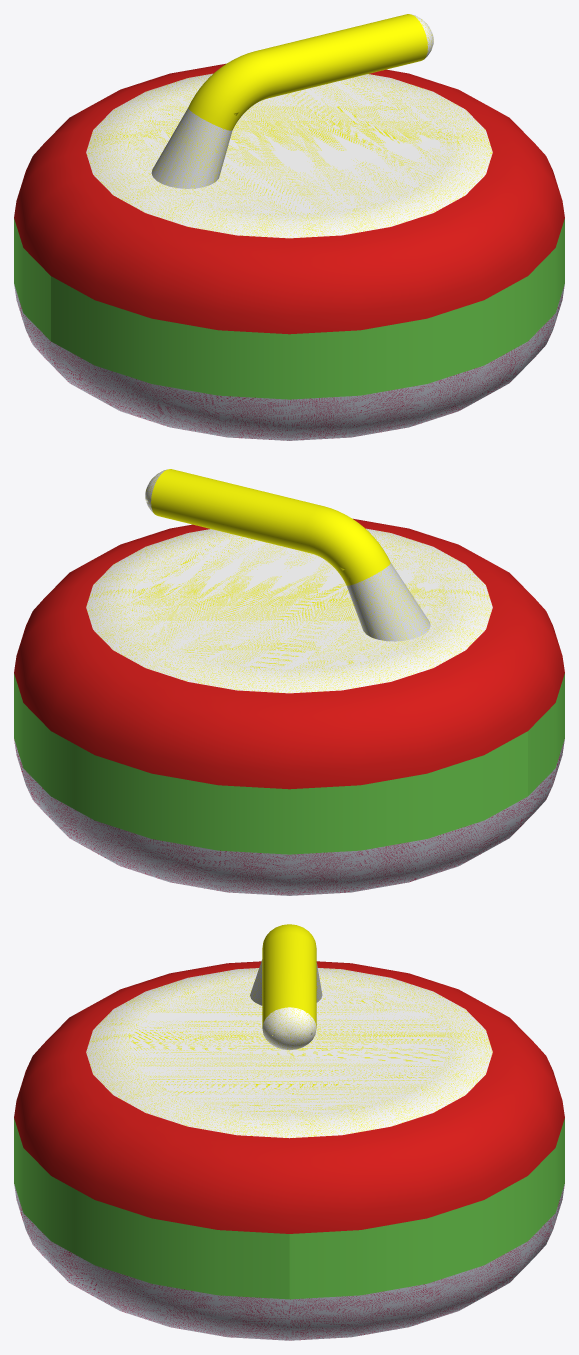
Rendered from stone3.dae.
3 views of the same model, one above another, from view 1: azimuth 30°, elevation 25°; view 2: azimuth 150°, elevation 25°; view 3: azimuth 270°, elevation 25° (orthographic).
Visible parts, largest first — view 1: instance_0_002, instance_0_004, instance_0, instance_0_003, instance_0_005, instance_0_007; view 2: instance_0_002, instance_0_004, instance_0, instance_0_003, instance_0_005, instance_0_007; view 3: instance_0_002, instance_0_004, instance_0, instance_0_003, instance_0_005, instance_0_010, instance_0_007.
Boxes of the visible parts, bbox=[...] form: instance_0_002: bbox=[14, 63, 564, 334]; instance_0_004: bbox=[86, 73, 492, 238]; instance_0: bbox=[14, 218, 564, 399]; instance_0_003: bbox=[14, 284, 564, 440]; instance_0_005: bbox=[188, 14, 427, 130]; instance_0_007: bbox=[151, 108, 232, 188]; instance_0_002: bbox=[14, 518, 564, 789]; instance_0_004: bbox=[86, 528, 492, 693]; instance_0: bbox=[14, 673, 564, 854]; instance_0_003: bbox=[14, 739, 564, 895]; instance_0_005: bbox=[151, 469, 390, 585]; instance_0_007: bbox=[347, 563, 430, 641]; instance_0_002: bbox=[14, 961, 564, 1233]; instance_0_004: bbox=[86, 968, 492, 1138]; instance_0: bbox=[14, 1118, 564, 1299]; instance_0_003: bbox=[14, 1185, 564, 1340]; instance_0_005: bbox=[262, 924, 316, 1027]; instance_0_010: bbox=[262, 1007, 316, 1050]; instance_0_007: bbox=[250, 959, 322, 1005].
Size of the model in its own units: 0.2911 by 0.2911 by 0.176.
